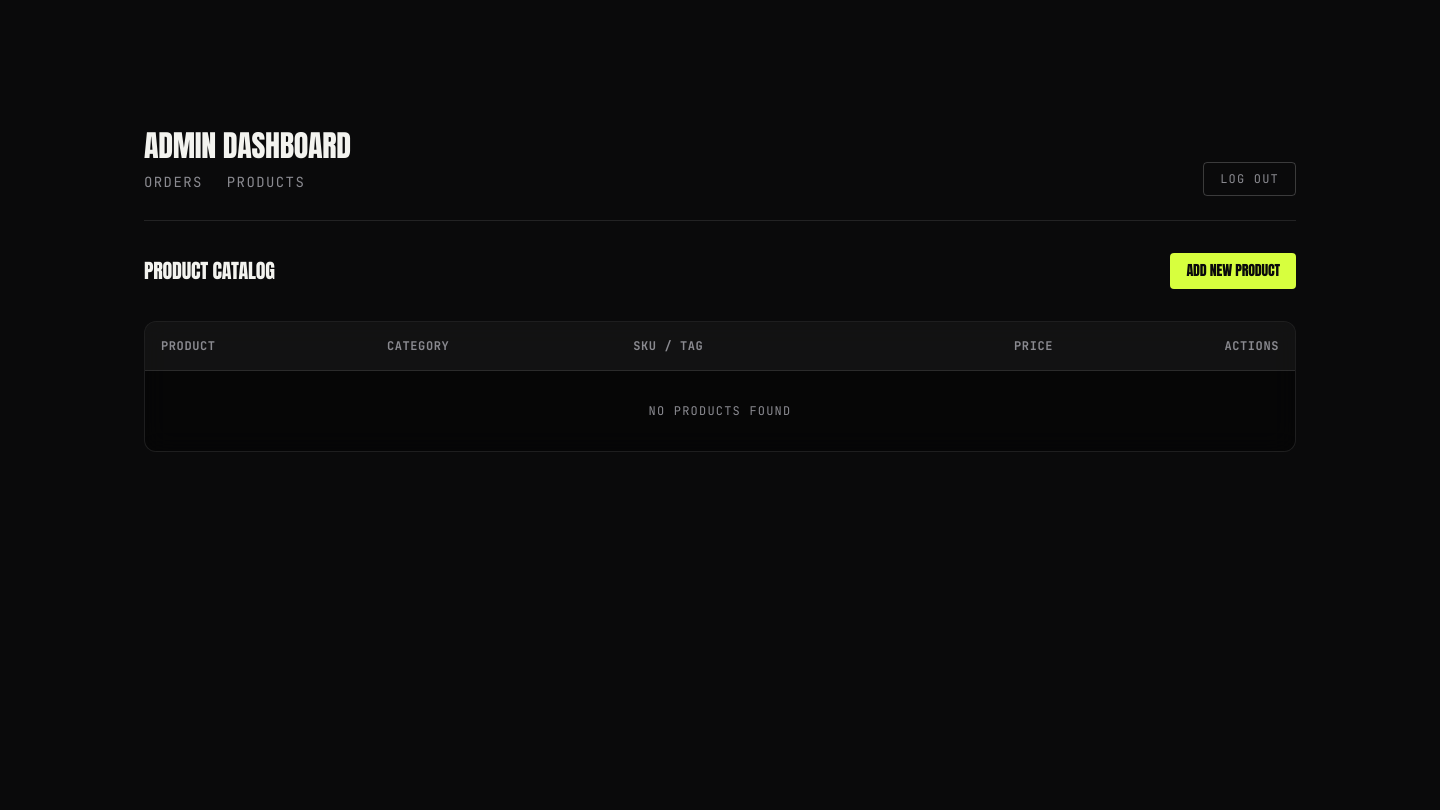
it: save errors › surfaces a plain server error
The image size is (1440, 810).
Click the button "Add New Product" at (1233, 271), box 1170,253 -> 1296,289
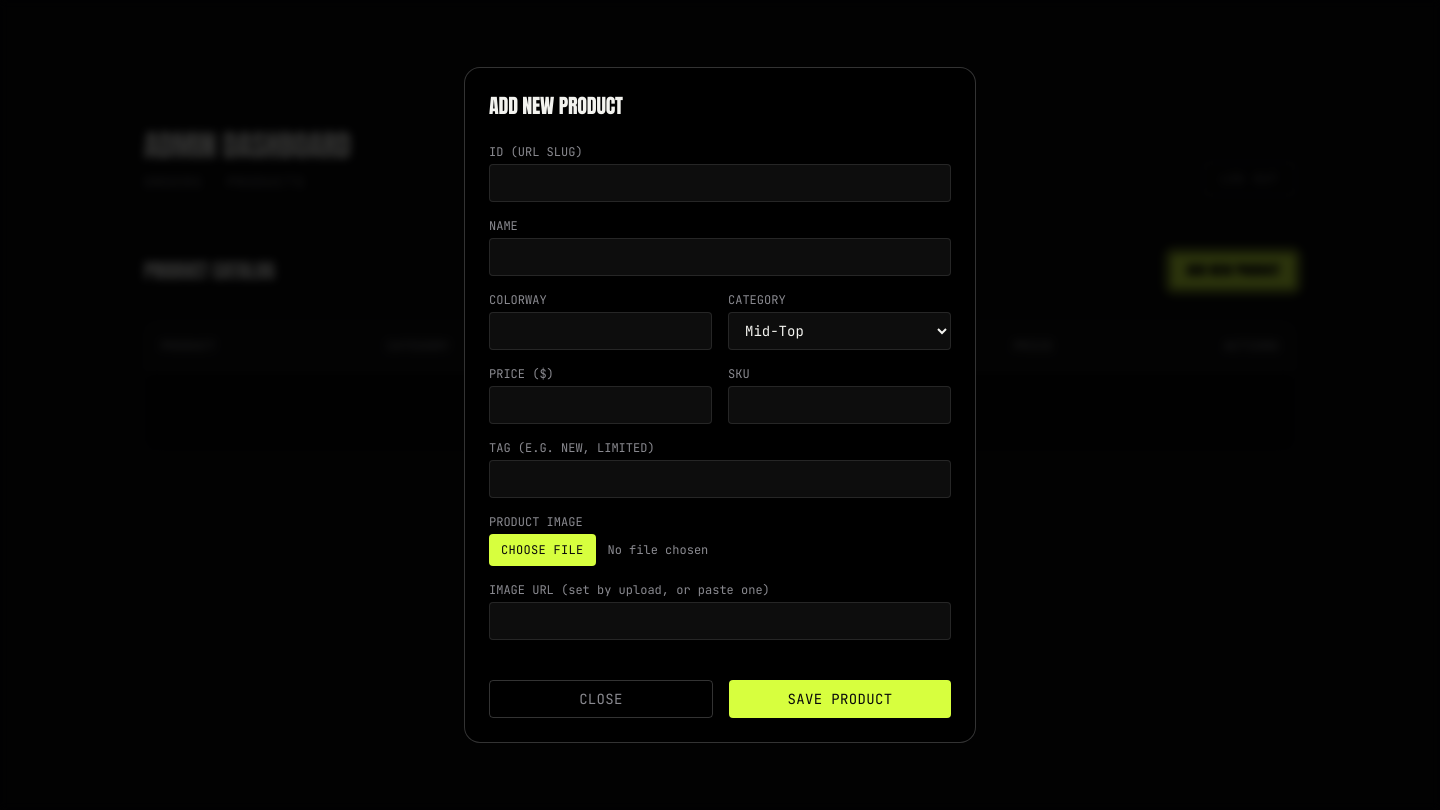
Type "x" into the field labelled "ID (URL slug)" at (720, 183), box 489,164 -> 951,202
Type "X" into the field labelled "Name" at (720, 257), box 489,238 -> 951,276
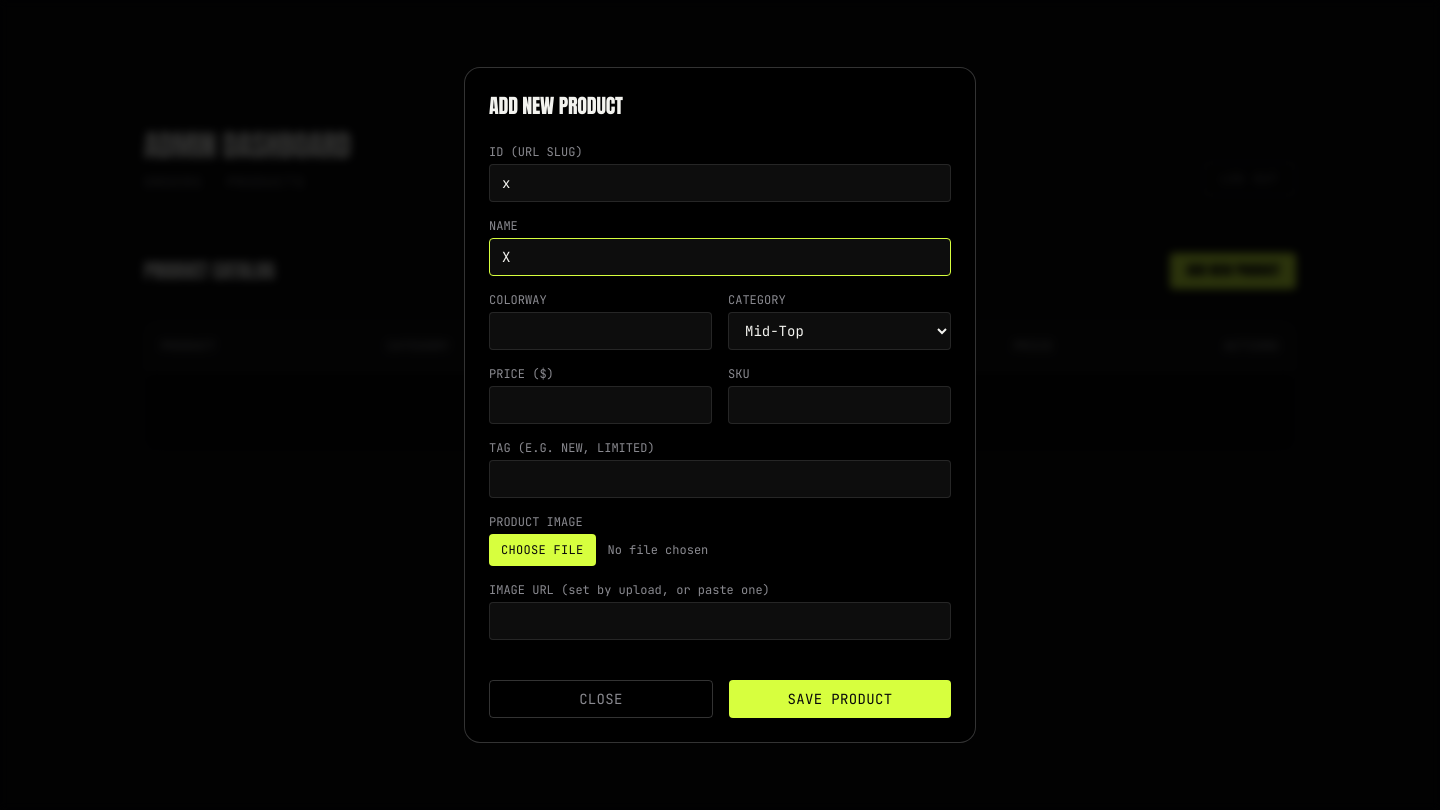
Type "1" into the number field labelled "Price ($)" at (600, 405), box 489,386 -> 712,424
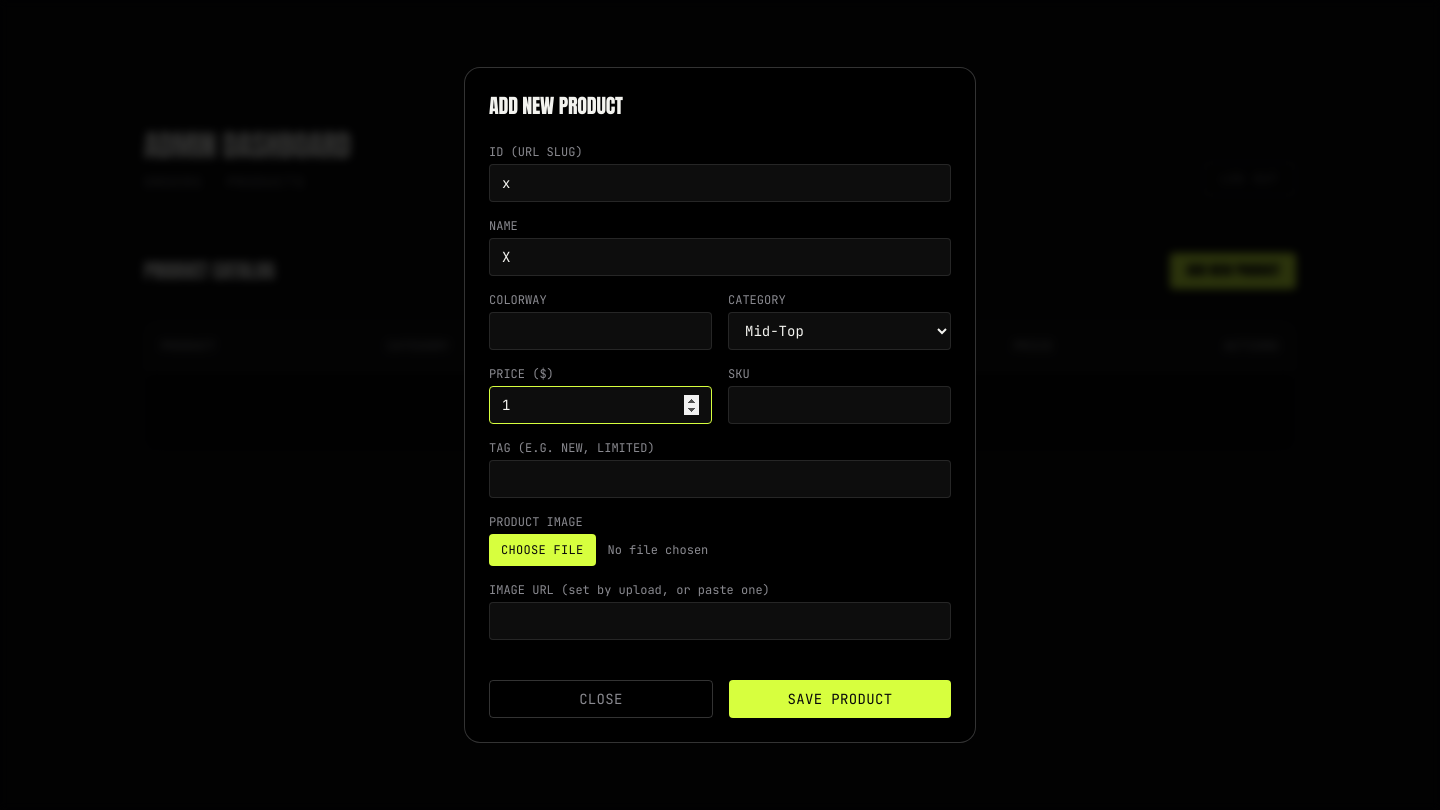
Type "X-1" into the field labelled "SKU" at (840, 405), box 728,386 -> 951,424
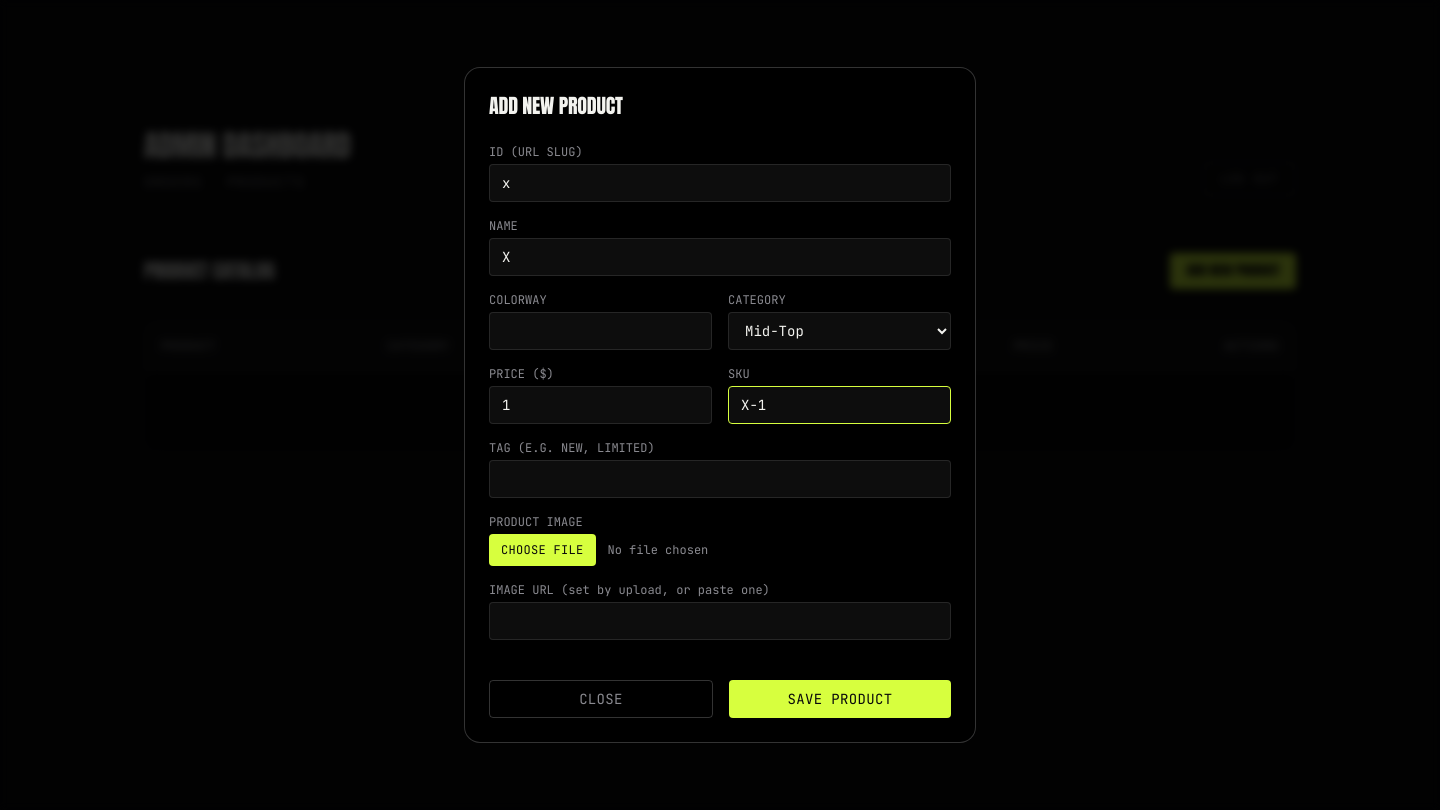
Type "https://example.com/x.png" into the field labelled "Image URL (set by upload, or paste one)" at (720, 621), box 489,602 -> 951,640
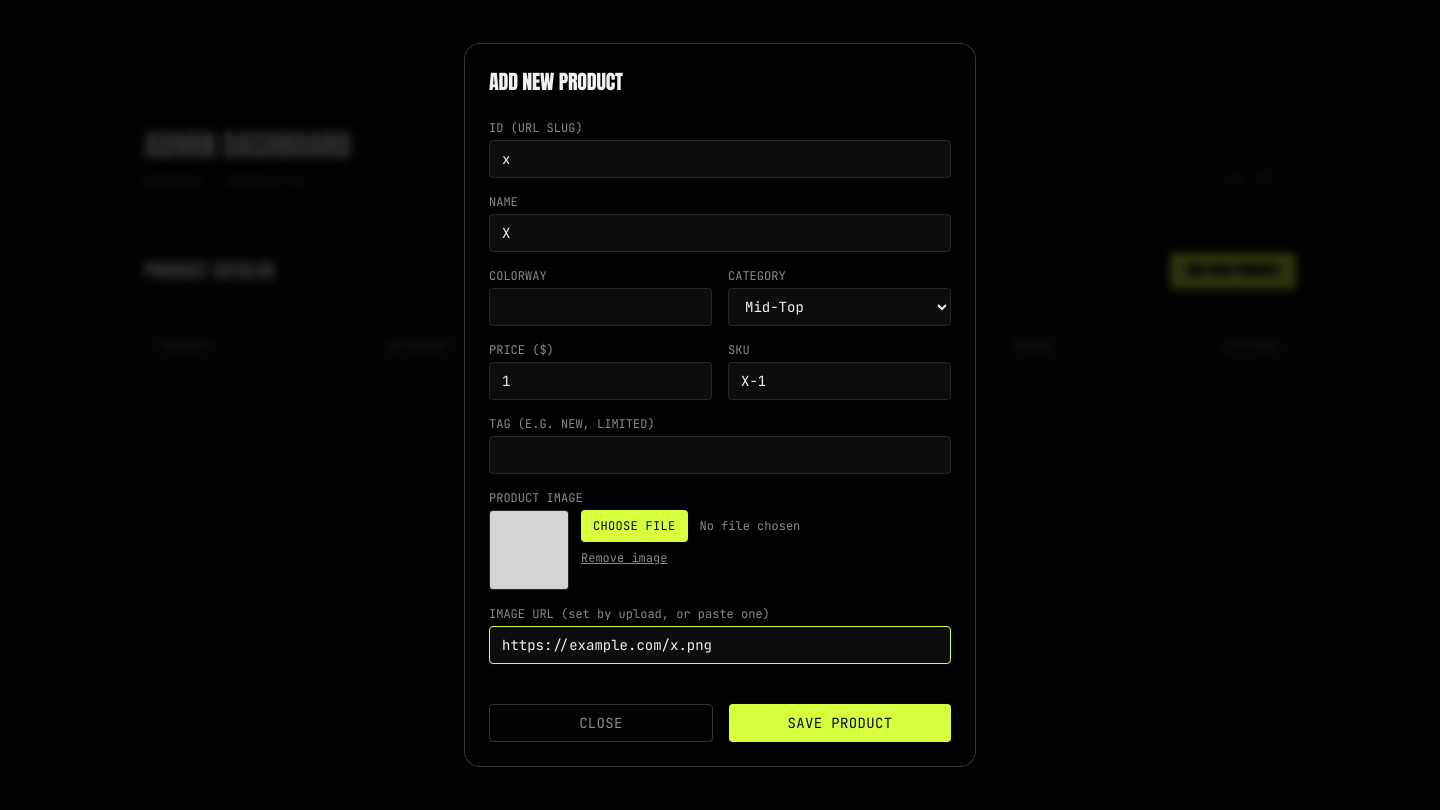
Click the button "Save Product" at (840, 723), box 729,704 -> 951,742
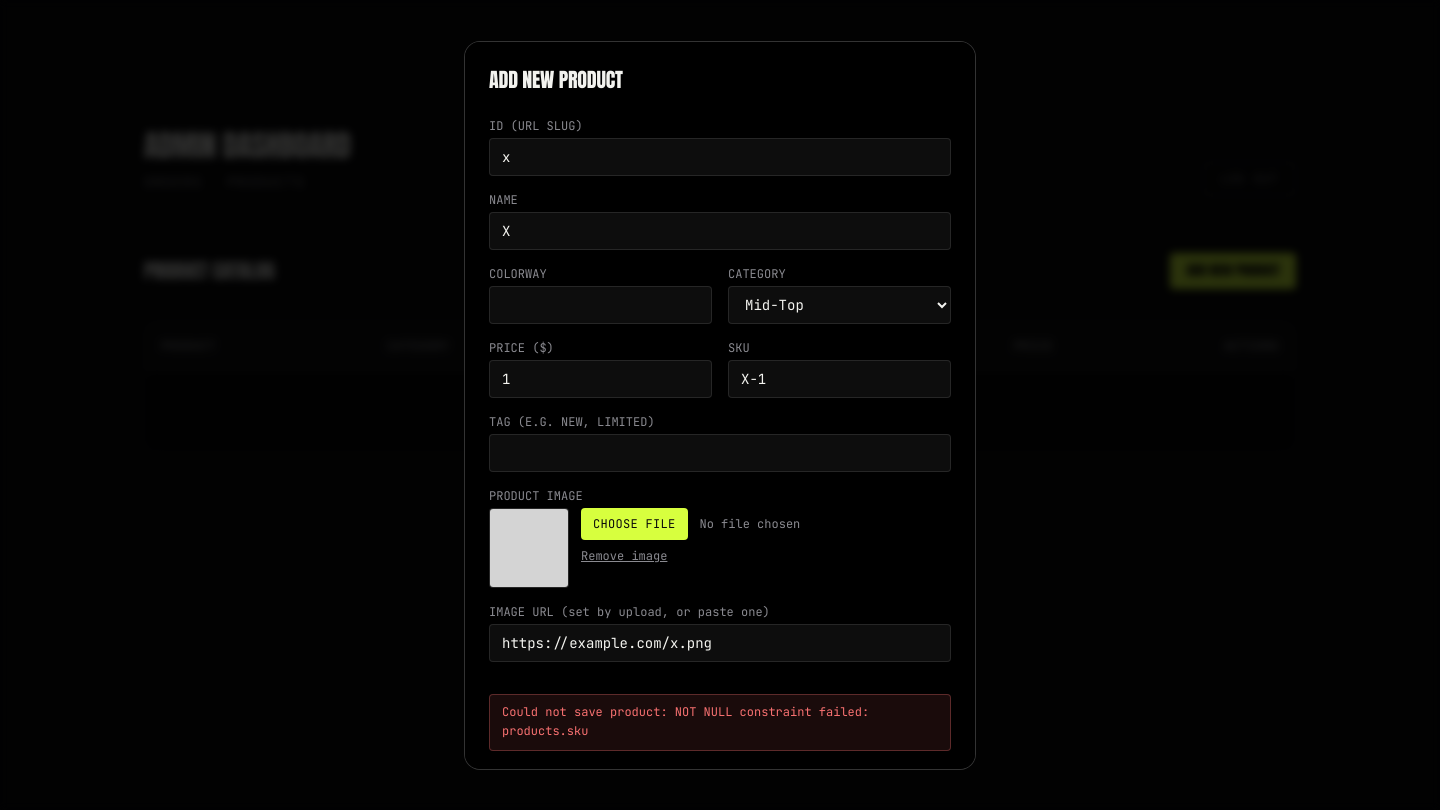
Result: the message shows "NOT NULL constraint failed: products.sku" at 502,704 -> 869,739
